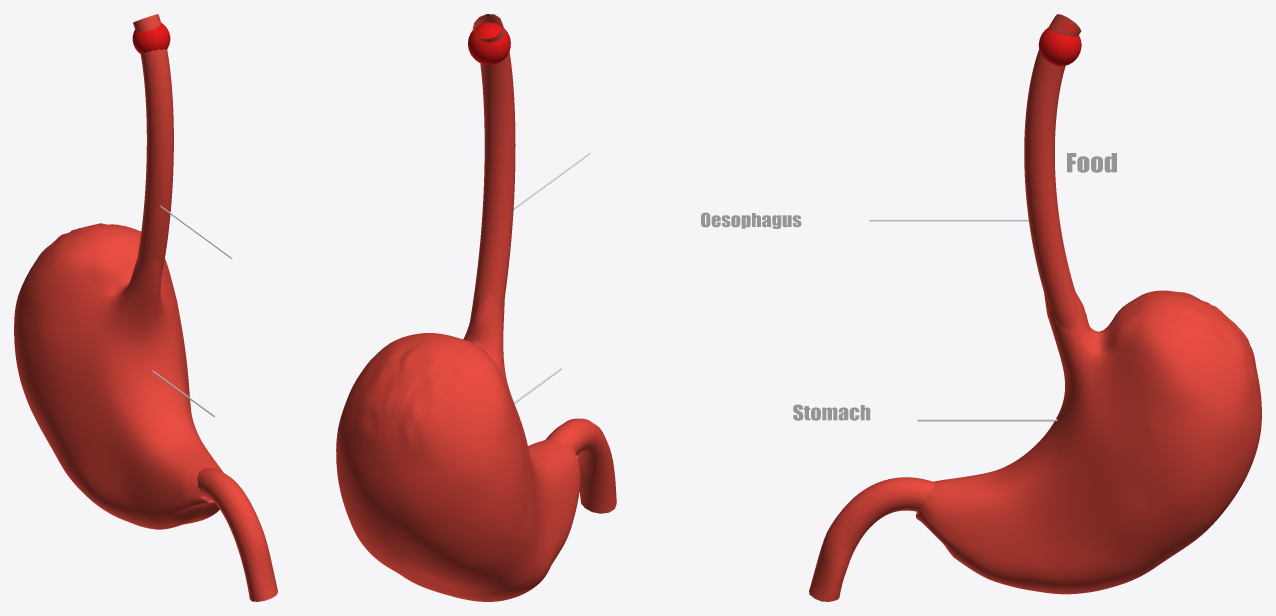
The model's file is stomach.glb.
3 renders of one model, left to right at view 1: azimuth 30°, elevation 25°; view 2: azimuth 150°, elevation 25°; view 3: azimuth 270°, elevation 25°, orthographic. The views are drawn at different scales.
Visible parts, largest first — view 1: Quad Sphere, pipe, NurbsPath.001, Sphere; view 2: Quad Sphere, pipe, NurbsPath.001, Sphere; view 3: Quad Sphere, pipe, NurbsPath.001, Sphere, Text.001, Text, Text.002.
Boxes of the visible parts, bbox=[...] form: Quad Sphere: bbox=[14, 223, 222, 529]; pipe: bbox=[133, 14, 173, 276]; NurbsPath.001: bbox=[197, 467, 277, 601]; Sphere: bbox=[132, 22, 170, 53]; Quad Sphere: bbox=[336, 289, 580, 601]; pipe: bbox=[470, 14, 515, 320]; NurbsPath.001: bbox=[546, 418, 616, 513]; Sphere: bbox=[468, 22, 510, 65]; Quad Sphere: bbox=[916, 290, 1261, 594]; pipe: bbox=[1024, 14, 1081, 330]; NurbsPath.001: bbox=[809, 477, 934, 601]; Sphere: bbox=[1038, 24, 1081, 66]; Text.001: bbox=[701, 212, 801, 228]; Text: bbox=[793, 404, 870, 420]; Text.002: bbox=[1067, 153, 1116, 172].
Size of the model in its own units: 2.22 by 7.26 by 6.4.
